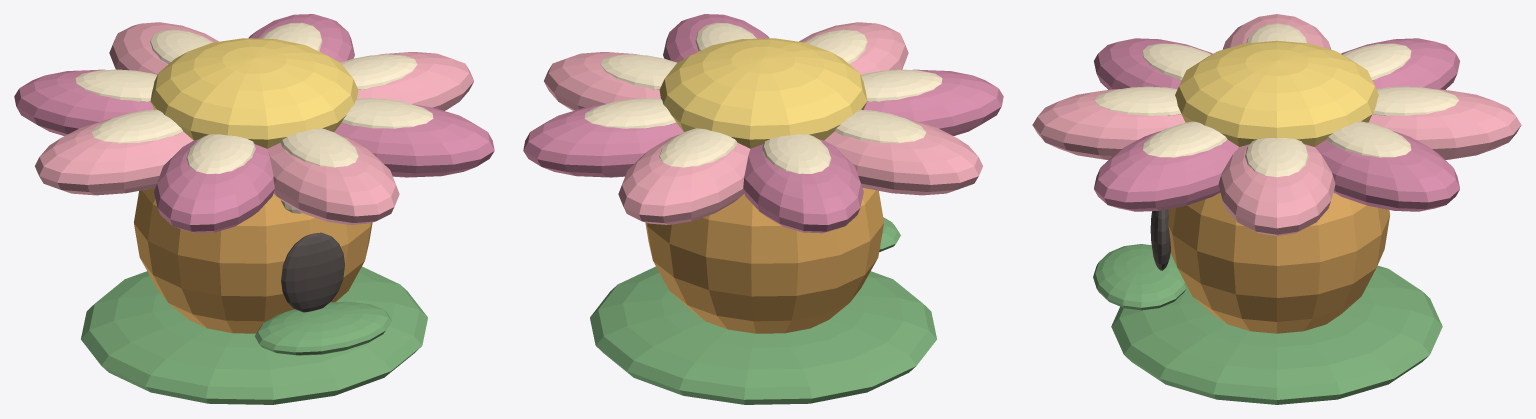
The model's file is BeeFlowerHome.fbx.
The picture shows the model from 3 angles, left to right: view 1: azimuth 30°, elevation 25°; view 2: azimuth 150°, elevation 25°; view 3: azimuth 270°, elevation 25°; orthographic projection.
Parts seen in each view (by area): view 1: Leaf ground base, Honey bulb, Flower heart, Wide flower petal.006, Wide flower petal.005, Wide flower petal.004, Wide flower petal.007, Landing leaf, Wide flower petal.003, Bee entrance, Wide flower petal, Wide flower petal.002 (+9 smaller); view 2: Leaf ground base, Honey bulb, Flower heart, Wide flower petal.002, Wide flower petal.003, Wide flower petal.004, Wide flower petal.001, Wide flower petal.005, Wide flower petal, Wide flower petal.006, Petal highlight.002, Petal highlight.004 (+8 smaller); view 3: Leaf ground base, Honey bulb, Flower heart, Wide flower petal.001, Wide flower petal.007, Wide flower petal, Wide flower petal.002, Wide flower petal.006, Landing leaf, Wide flower petal.003, Wide flower petal.005, Petal highlight.001 (+9 smaller).
Part boxes in pixels (x1,y1,x2,y2): Leaf ground base: (81,266,427,404); Honey bulb: (134,188,372,333); Flower heart: (150,38,358,148); Wide flower petal.006: (267,134,399,224); Wide flower petal.005: (154,139,274,233); Wide flower petal.004: (35,118,193,195); Wide flower petal.007: (334,104,494,177); Landing leaf: (255,301,391,355); Wide flower petal.003: (14,69,154,135); Bee entrance: (281,232,344,312); Wide flower petal: (357,52,473,110); Wide flower petal.002: (109,22,218,74); Leaf ground base: (590,266,936,404); Honey bulb: (645,188,883,333); Flower heart: (659,38,867,148); Wide flower petal.002: (618,134,750,224); Wide flower petal.003: (743,139,863,233); Wide flower petal.004: (824,118,982,195); Wide flower petal.001: (523,104,683,177); Wide flower petal.005: (863,69,1003,135); Wide flower petal: (544,52,660,110); Wide flower petal.006: (799,22,908,74); Petal highlight.002: (659,128,737,167); Petal highlight.004: (834,109,926,143); Leaf ground base: (1111,265,1442,404); Honey bulb: (1168,192,1389,333); Flower heart: (1175,40,1378,146); Wide flower petal.001: (1315,131,1459,211); Wide flower petal.007: (1094,131,1238,211); Wide flower petal: (1218,144,1335,235); Wide flower petal.002: (1368,89,1521,159); Wide flower petal.006: (1032,89,1185,159); Landing leaf: (1093,244,1186,310); Wide flower petal.003: (1341,38,1459,89); Wide flower petal.005: (1094,38,1212,89); Petal highlight.001: (1326,121,1411,157).
Bounding box in the file's own units: 242 × 160 × 242.
